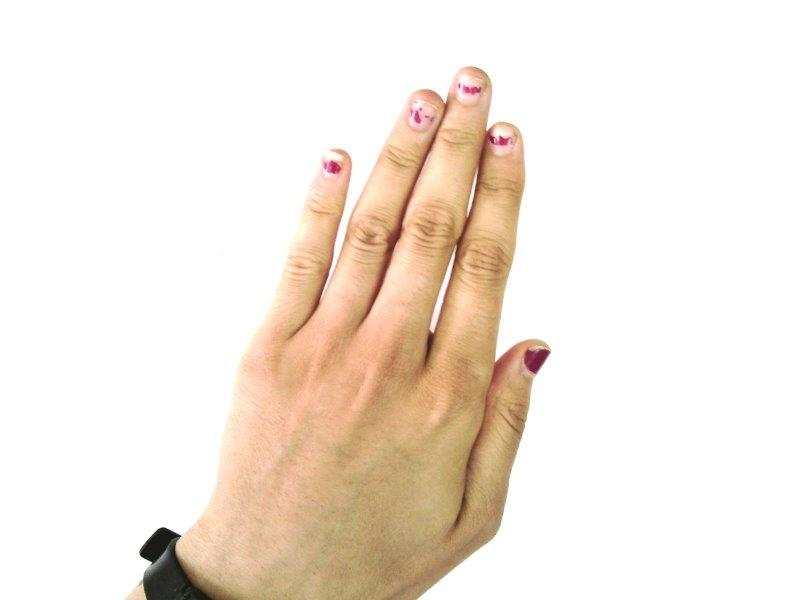hand: (209, 68, 552, 562)
